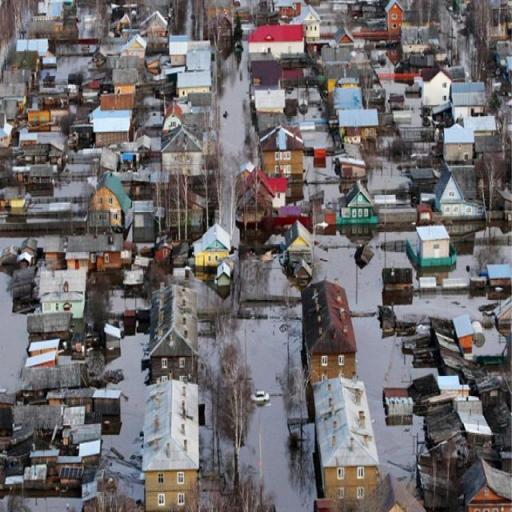flood: (233, 305, 317, 512), (354, 318, 432, 473), (314, 233, 410, 312), (418, 219, 512, 281), (102, 335, 148, 461), (218, 42, 253, 159), (0, 274, 24, 388), (395, 296, 488, 320), (384, 81, 422, 127), (55, 56, 91, 83), (200, 338, 222, 372), (273, 272, 300, 297), (55, 44, 98, 54), (482, 339, 506, 352), (499, 246, 512, 264)
house: (144, 381, 199, 512), (302, 282, 356, 378), (150, 284, 200, 381), (320, 442, 378, 506), (426, 400, 492, 446), (458, 457, 512, 510), (248, 22, 305, 71), (86, 172, 132, 232), (430, 314, 476, 372), (192, 223, 236, 278), (262, 123, 304, 172), (414, 220, 455, 270), (436, 172, 476, 222), (21, 365, 86, 394), (164, 128, 202, 177), (341, 180, 374, 234), (284, 222, 314, 268), (12, 404, 63, 431), (25, 312, 70, 342), (451, 82, 487, 118), (386, 381, 416, 424), (91, 112, 133, 142), (66, 428, 102, 463), (41, 292, 84, 320), (444, 125, 474, 164), (256, 172, 289, 206), (94, 385, 123, 423), (336, 110, 380, 135), (4, 462, 45, 488), (426, 64, 452, 104), (174, 70, 214, 96), (329, 79, 364, 108), (25, 340, 60, 367), (100, 89, 137, 113), (432, 374, 468, 398), (254, 88, 287, 114), (483, 262, 512, 291), (382, 266, 414, 292), (410, 166, 436, 197), (333, 26, 356, 61), (186, 40, 212, 70), (336, 154, 366, 180), (400, 27, 430, 52), (16, 238, 42, 266), (143, 11, 168, 39), (2, 83, 26, 112), (386, 0, 404, 38), (112, 66, 137, 93), (162, 102, 184, 132), (12, 50, 42, 72), (2, 66, 32, 88), (26, 166, 56, 188), (493, 299, 512, 333), (123, 32, 146, 58), (68, 386, 91, 412), (302, 6, 320, 39), (24, 142, 50, 164), (60, 466, 84, 488), (170, 36, 187, 66), (98, 148, 120, 171), (64, 405, 86, 428), (28, 110, 50, 130), (294, 258, 312, 280), (277, 0, 296, 18), (217, 263, 230, 288), (114, 8, 132, 26), (133, 135, 151, 151), (48, 389, 62, 405)
